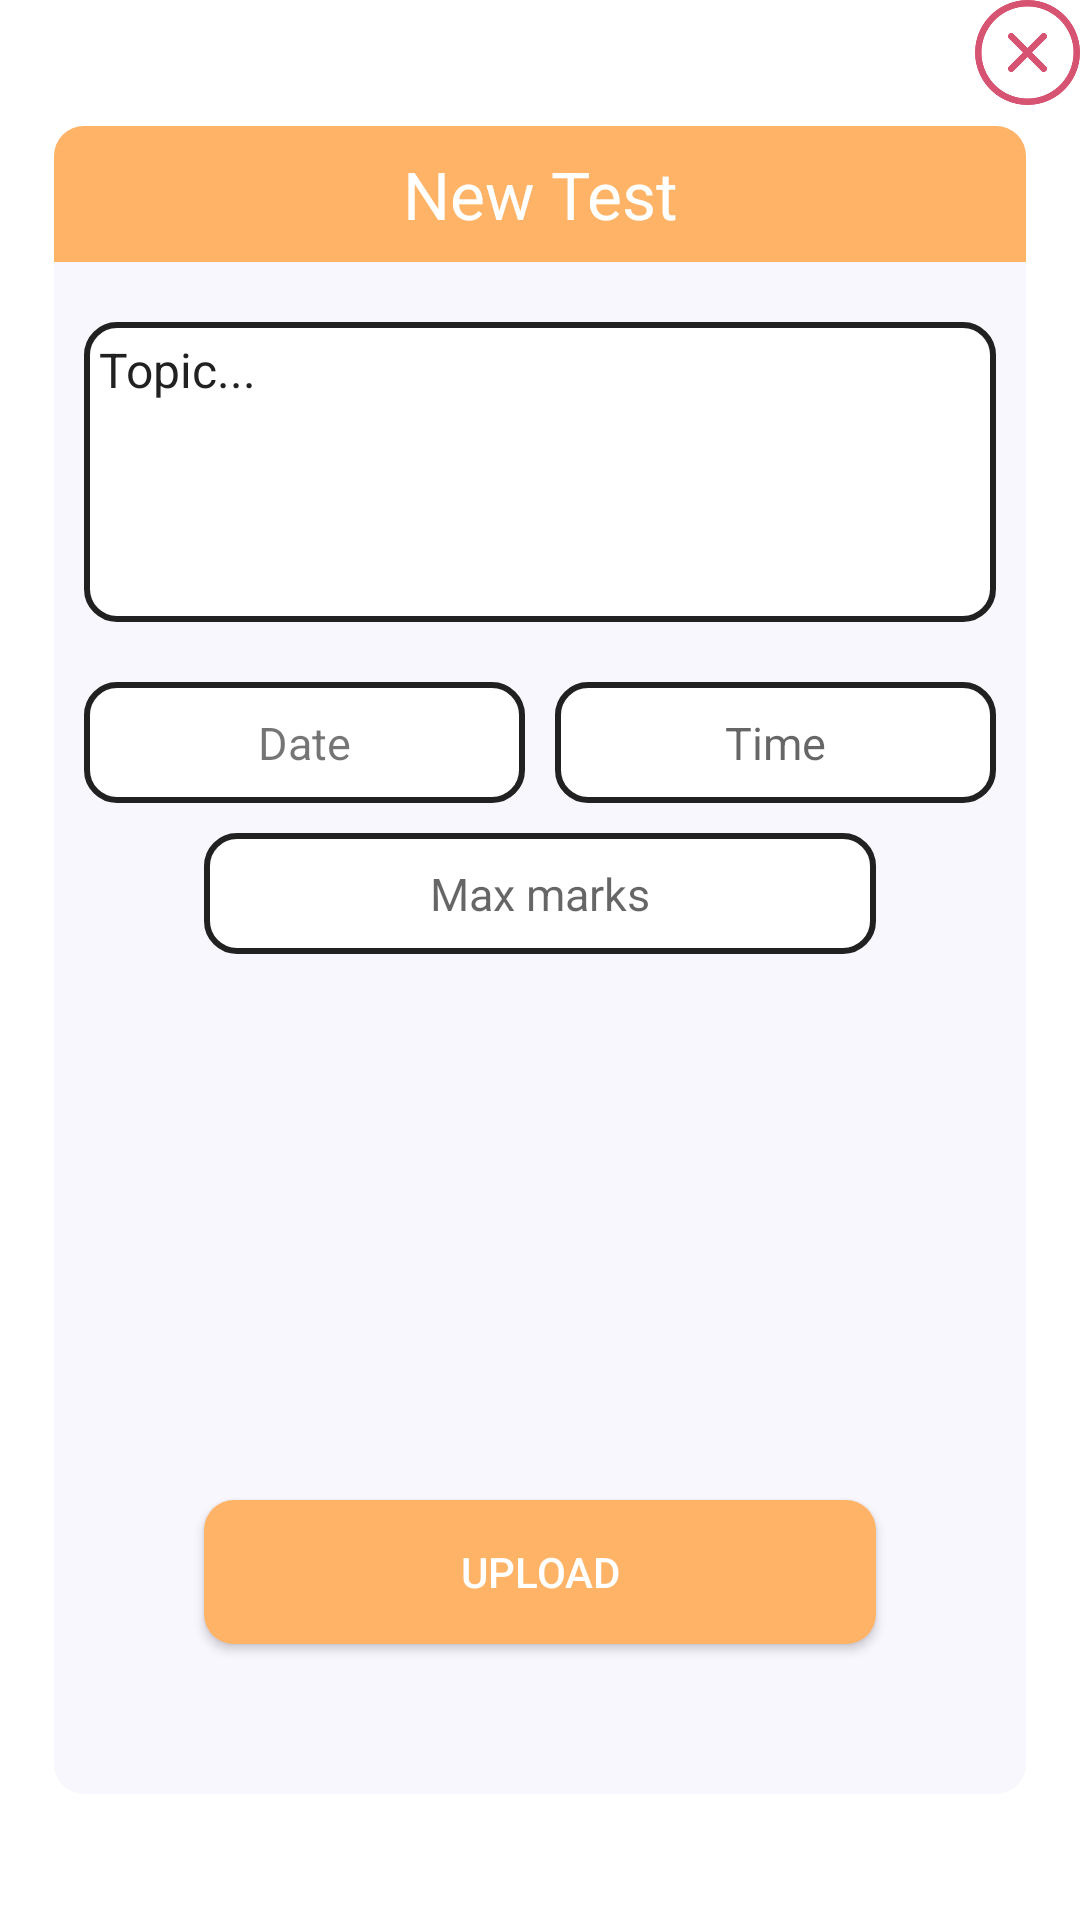

Icon bounding boxes for this 1080*1920 phone screenshot, format (x1, y1, x2, y2):
remove: (975, 0, 1080, 105)
